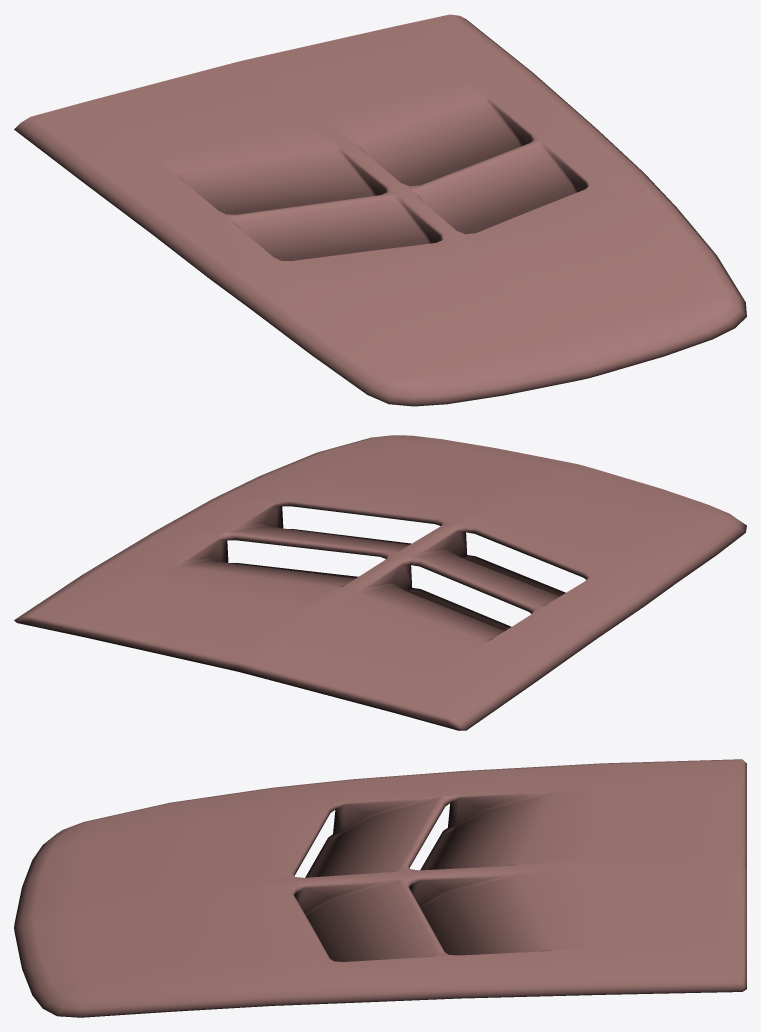
Rendered from Mustang16_Hood_05_Trim.fbx.
The picture shows the model from 3 angles, top to bottom: view 1: azimuth 30°, elevation 25°; view 2: azimuth 150°, elevation 25°; view 3: azimuth 270°, elevation 25°; orthographic projection. The views are drawn at different scales.
Visible parts, largest first — view 1: Mustang16_Hood_05_Trim; view 2: Mustang16_Hood_05_Trim; view 3: Mustang16_Hood_05_Trim.
Part boxes in pixels (bbox=[...]): Mustang16_Hood_05_Trim: bbox=[14, 14, 746, 406]; Mustang16_Hood_05_Trim: bbox=[14, 435, 746, 730]; Mustang16_Hood_05_Trim: bbox=[14, 759, 746, 1017].
Bounding box in the file's own units: 63.53 × 8.38 × 85.29.
